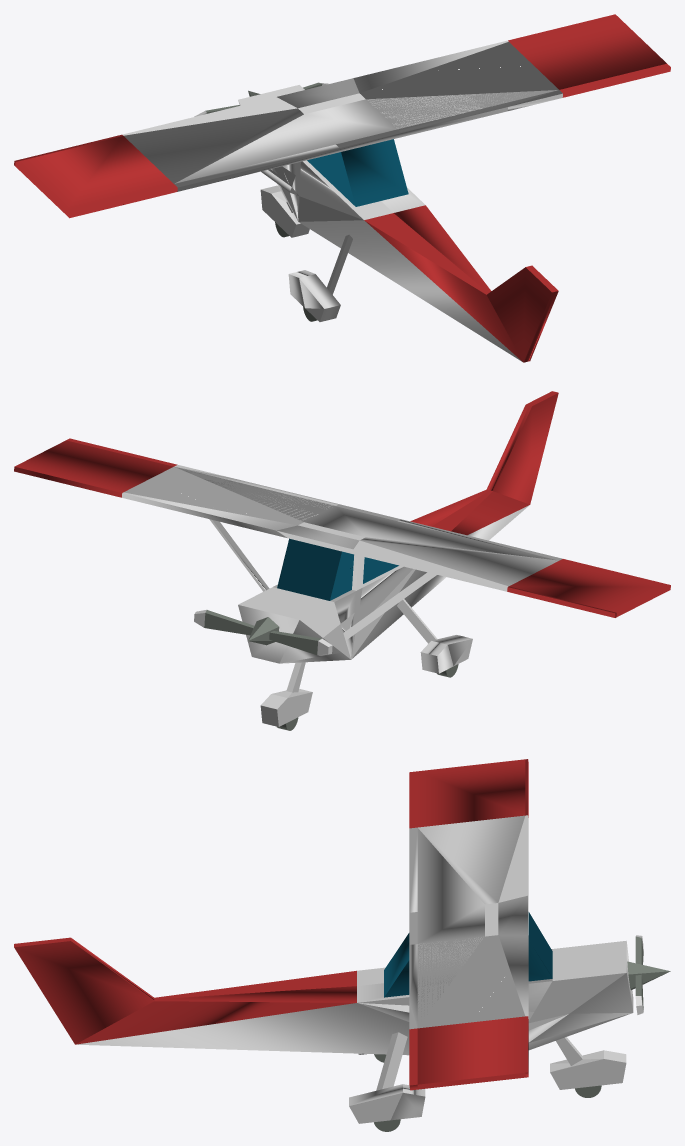
File: Cessna.fbx
3 renders of one model, top to bottom at view 1: azimuth 30°, elevation 25°; view 2: azimuth 150°, elevation 25°; view 3: azimuth 270°, elevation 25°, orthographic. The views are drawn at different scales.
Visible parts, largest first — view 1: Korpus, Cube_3, Cube_2; view 2: Korpus, Rotor, Cube_3, Cube_2; view 3: Korpus, Cube_1, Cube_2, Rotor.
Boxes of the visible parts, x1,y1,x2,y2 form: Korpus: (14,14,670,362); Cube_3: (288,234,352,321); Cube_2: (260,185,309,237); Korpus: (14,391,670,663); Rotor: (194,609,332,655); Cube_3: (397,599,472,673); Cube_2: (260,662,312,726); Korpus: (14,759,633,1090); Cube_1: (349,1032,425,1123); Cube_2: (550,1037,626,1089); Rotor: (627,935,670,1014).
Size of the model in its own units: 273 by 72.95 by 242.
